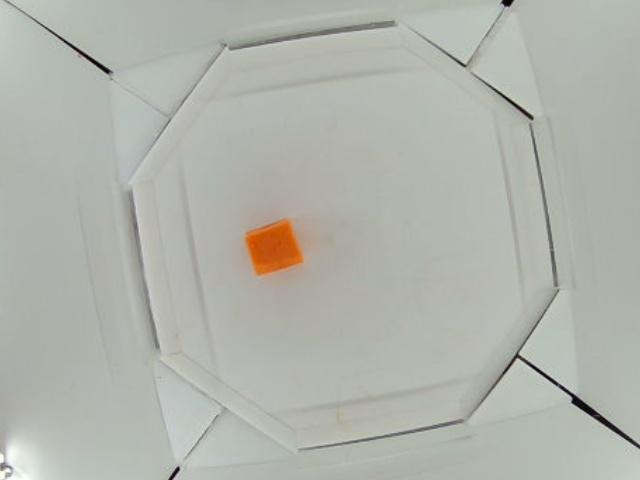Carrot: (246, 220, 303, 276)
